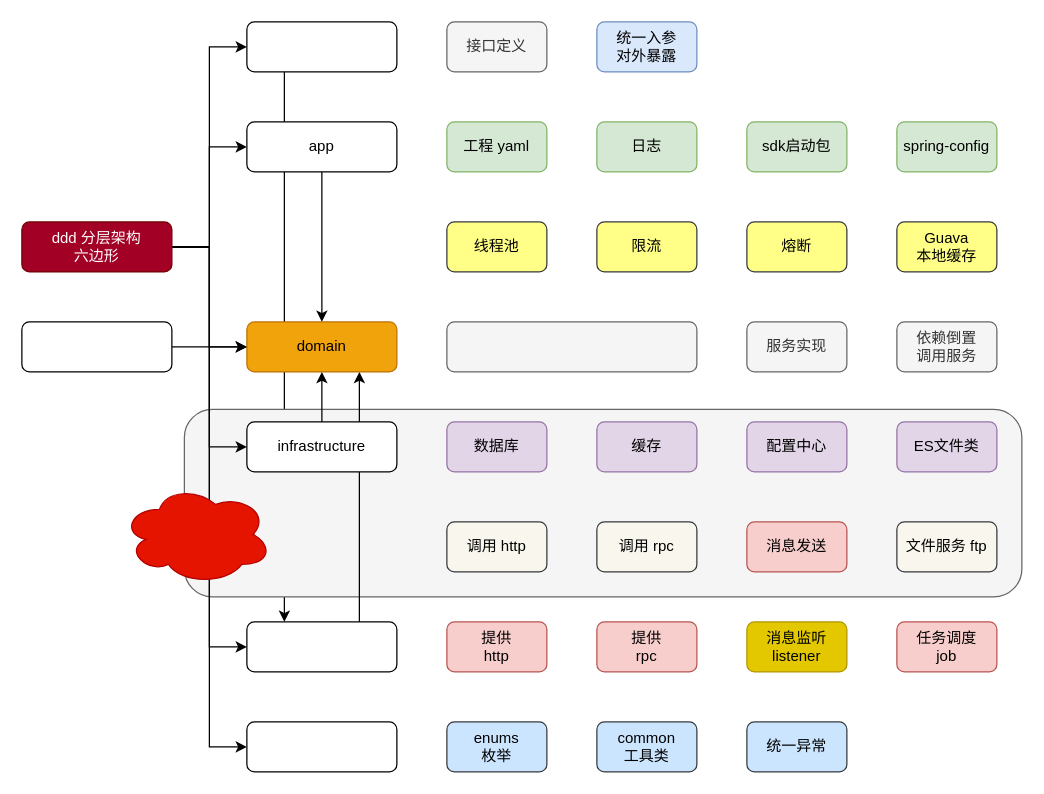
Some shapes in this 1044 by 794 pixel diagram are drawn without their labels. The centre of each missing label's shape, as x and y in pixels:
api: [321,46]
case 大服务、做编排: [96,346]
trigger: [321,646]
types: [321,746]
充血模型 实体、值对象、聚合对象: [571,346]
基础设施 管理对接: [196,533]
